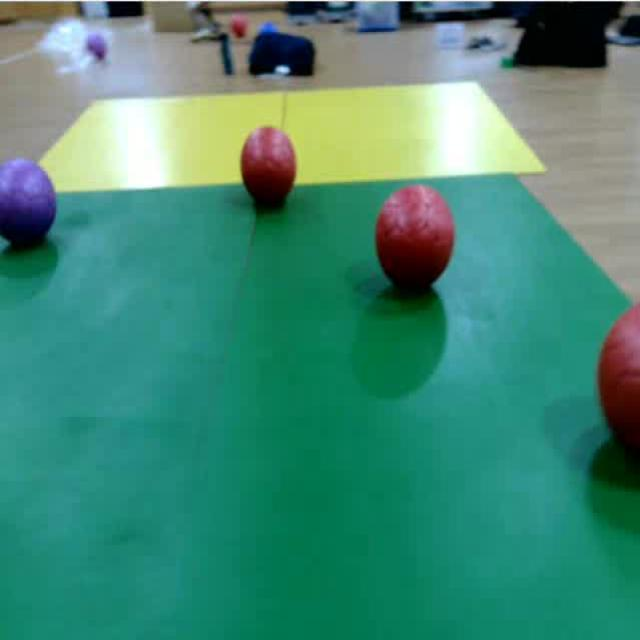purple_ball: (0, 155, 60, 257)
red_ball: (372, 182, 457, 293), (598, 300, 640, 472), (240, 125, 299, 210)
